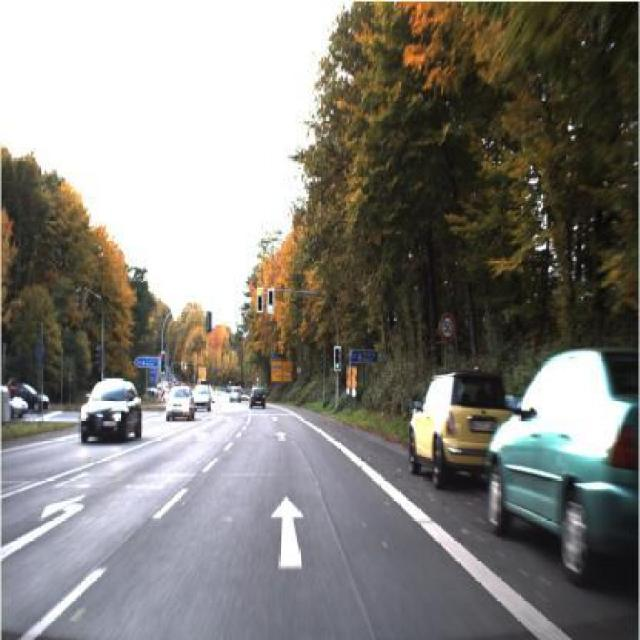Ograniczenie predkosci do 50: (438, 311, 456, 343)
